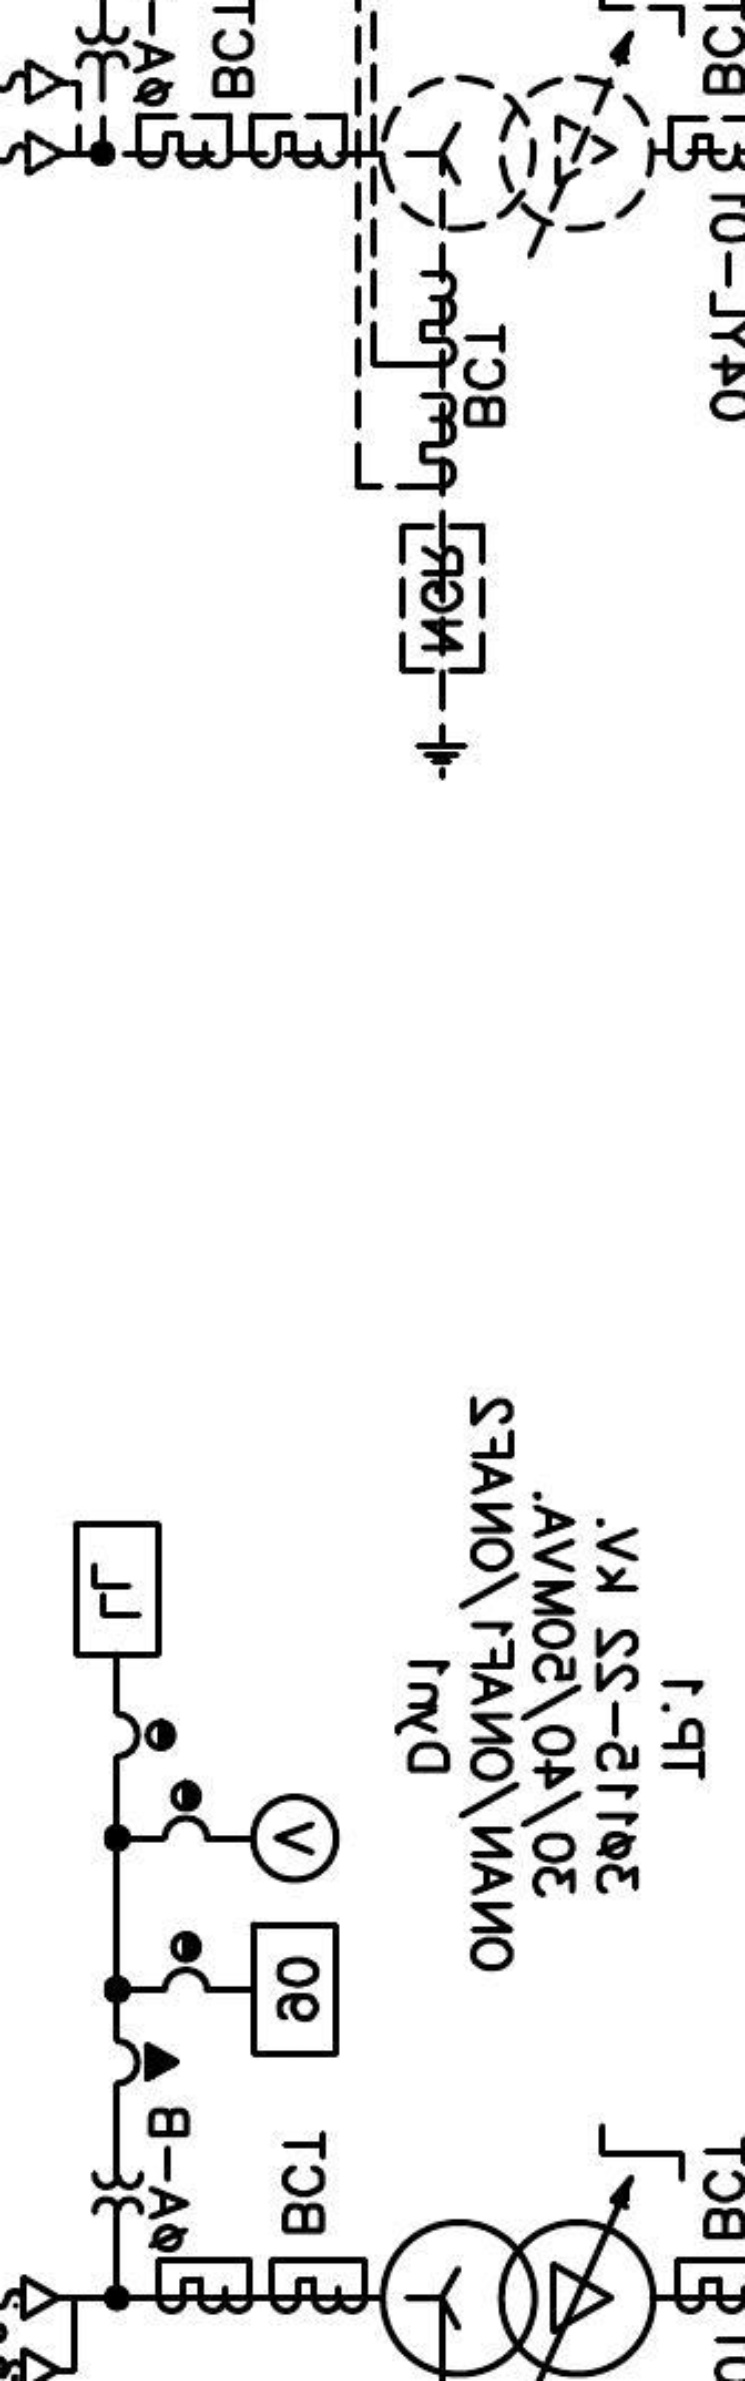11522_tx_dyn1: (378, 2217, 658, 2379)
LL: (71, 1518, 163, 1660)
v_m: (249, 1791, 342, 1886)
